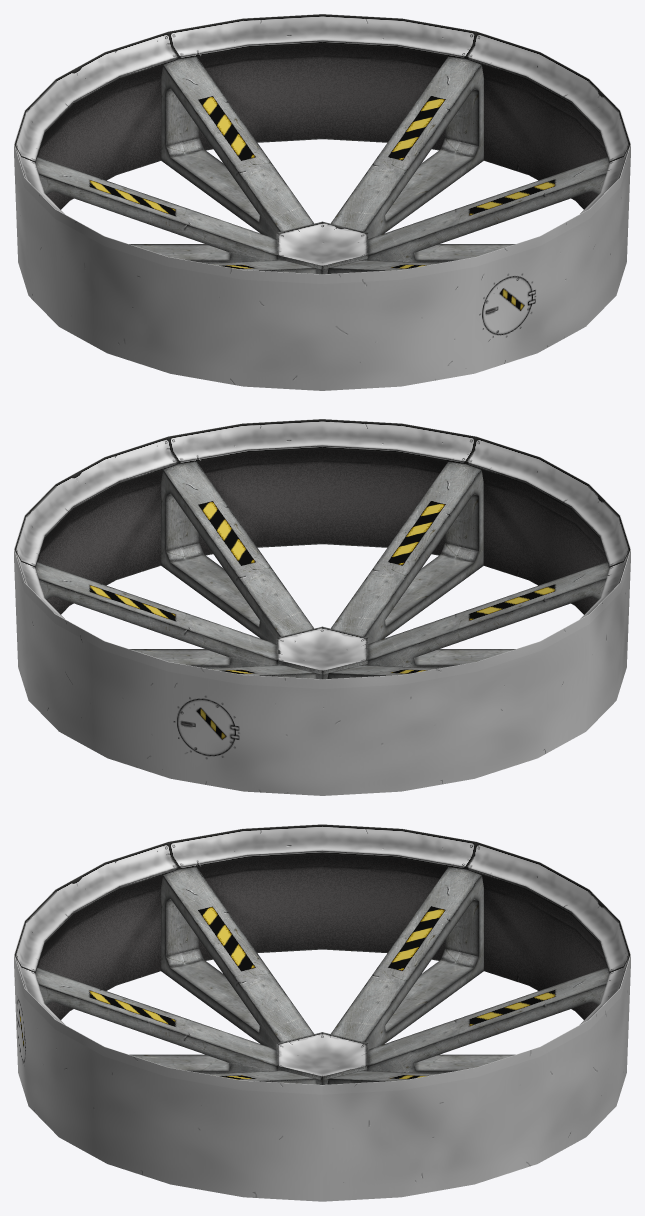
The model's file is Shroud.DAE.
3 renders of one model, top to bottom at view 1: azimuth 30°, elevation 25°; view 2: azimuth 150°, elevation 25°; view 3: azimuth 270°, elevation 25°, orthographic.
Visible parts, largest first — view 1: Shell, Strut003, Strut004, Strut005, Strut002, Hub, Strut006, Strut001; view 2: Shell, Strut002, Strut001, Strut006, Strut003, Hub, Strut005, Strut004; view 3: Shell, Strut005, Strut006, Strut001, Strut004, Hub, Strut002, Strut003.
Boxes of the visible parts, box(x1,y1,x2,y2) form: Shell: box(14, 14, 630, 390); Strut003: box(331, 56, 483, 238); Strut004: box(161, 57, 313, 238); Strut005: box(35, 157, 276, 263); Strut002: box(368, 157, 609, 263); Hub: box(276, 221, 368, 274); Strut006: box(206, 260, 317, 273); Strut001: box(327, 260, 438, 273); Shell: box(14, 419, 630, 795); Strut002: box(161, 461, 313, 643); Strut001: box(331, 462, 483, 643); Strut006: box(368, 562, 609, 668); Strut003: box(35, 562, 276, 668); Hub: box(276, 626, 368, 679); Strut005: box(327, 665, 438, 678); Strut004: box(206, 665, 317, 678); Shell: box(14, 824, 630, 1201); Strut005: box(331, 867, 483, 1049); Strut006: box(161, 867, 313, 1049); Strut001: box(35, 967, 276, 1073); Strut004: box(368, 967, 609, 1073); Hub: box(276, 1032, 368, 1084); Strut002: box(206, 1070, 317, 1084); Strut003: box(327, 1070, 438, 1084).
Size of the model in its own units: 2.53 by 0.5351 by 2.53.
